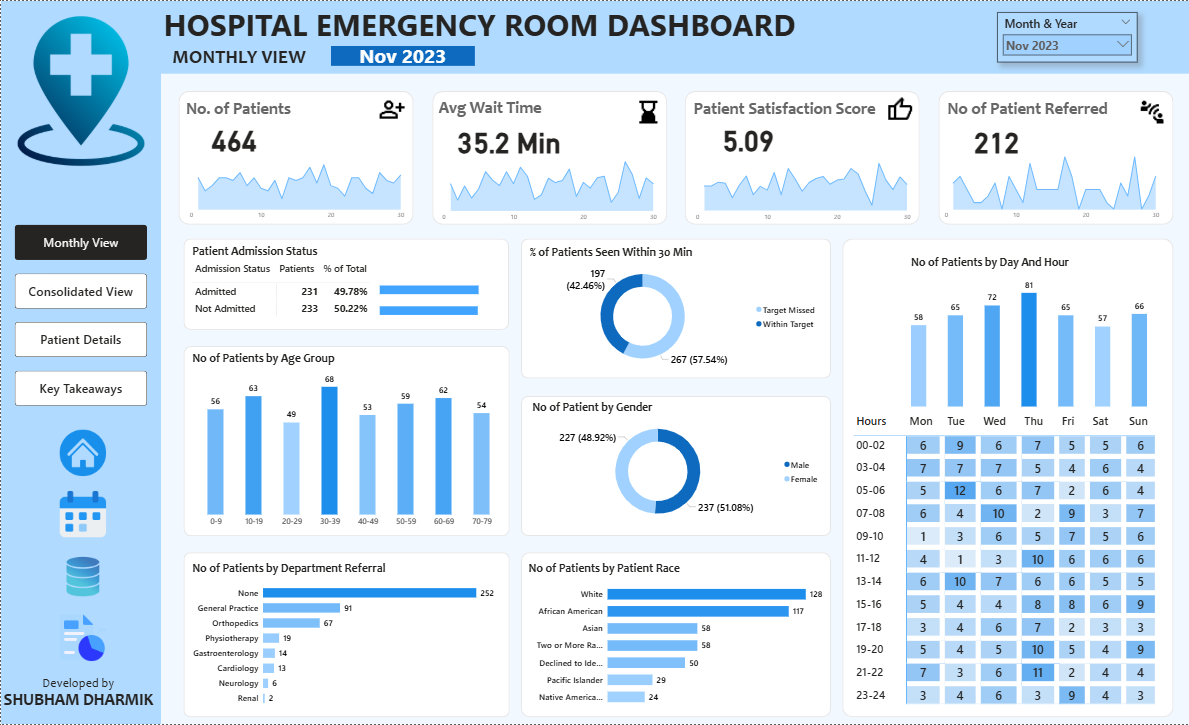

What the dashboard file says about the page in this screenshot:
{"tool":"powerbi","page":{"name":"Monthly View","canvas":[2300,1400],"ordinal":0},"visuals":[{"type":"shape","box":[0,0,309.6,1400.5],"z":0},{"type":"shape","box":[310.7,0,1989.8,140.5],"z":1000},{"type":"textbox","box":[309.6,0,1260.2,104],"z":2000},{"type":"shape","box":[343.5,174.2,455,258.8],"z":3000},{"type":"textbox","box":[326.5,79.8,278.2,60.5],"z":4000},{"type":"card","fields":{"Values":["Hospital ER_Data.No of Patients"]},"box":[377.3,227.4,147.5,72.6],"z":5000},{"type":"textbox","box":[353.1,183.8,224.9,55.6],"z":6000},{"type":"areaChart","fields":{"Category":["Date Table.Date.Variation.Date Hierarchy.Day"],"Y":["Hospital ER_Data.No of Patients"]},"box":[353.1,287.8,435.4,145.1],"z":7000},{"type":"card","fields":{"Values":["Min(Date Table.Month & Year)"]},"box":[638.6,87.1,278.2,38.7],"z":8000},{"type":"shape","box":[833.9,174.2,454.7,258.8],"z":9000},{"type":"card","fields":{"Values":["Hospital ER_Data.Avg Wait Time"]},"box":[865.9,232.2,234.6,72.6],"z":10000},{"type":"textbox","box":[841.7,181.4,224.9,55.6],"z":11000},{"type":"areaChart","fields":{"Category":["Date Table.Date.Variation.Date Hierarchy.Day"],"Y":["Avg(Hospital ER_Data.Patient Waittime)"]},"box":[841.7,290.3,435.4,145.1],"z":12000},{"type":"shape","box":[1324,174.2,454.7,258.8],"z":13000},{"type":"card","fields":{"Values":["Hospital ER_Data.Satisfaction Score"]},"box":[1371.5,227.4,147.5,72.6],"z":14000},{"type":"textbox","box":[1335.2,183.8,365.2,55.6],"z":15000},{"type":"areaChart","fields":{"Category":["Date Table.Date.Variation.Date Hierarchy.Day"],"Y":["Hospital ER_Data.Satisfaction Score"]},"box":[1332.8,290.3,435.4,145.1],"z":16000},{"type":"shape","box":[1814.1,174.2,454.7,258.8],"z":17000},{"type":"card","fields":{"Values":["Hospital ER_Data.No of Patient Referred"]},"box":[1853.8,231.2,147.5,72.6],"z":18000},{"type":"shape","box":[353.1,459.6,630,177],"z":19000},{"type":"textbox","box":[1826.2,183.8,326.5,55.6],"z":20000},{"type":"areaChart","fields":{"Category":["Date Table.Date.Variation.Date Hierarchy.Day"],"Y":["Hospital ER_Data.No of Patient Referred"]},"box":[1815.1,286.9,435.4,145.1],"z":21000},{"type":"slicer","fields":{"Values":["Date Table.Month & Year"]},"box":[1927.8,21.8,270.9,96.8],"z":22000},{"type":"pivotTable","title":"Patient Admission Status","fields":{"Rows":["Hospital ER_Data.Admission Status"],"Values":["Hospital ER_Data.No of Patients1","Hospital ER_Data.No of Patients"]},"box":[365.2,469.2,607.1,154.8],"z":23000},{"type":"barChart","fields":{"Category":["Hospital ER_Data.Admission Status"],"Y":["Hospital ER_Data.No of Patients"]},"box":[728.1,517.6,256.4,118.5],"z":24000},{"type":"shape","box":[353.1,667.6,631.3,368],"z":25000},{"type":"clusteredColumnChart","fields":{"Category":["Hospital ER_Data.Age Group"],"Y":["Hospital ER_Data.No of Patients"]},"box":[365.2,677.3,616.8,350.7],"z":26000},{"type":"shape","box":[353.1,1066.7,631.3,319.3],"z":27000},{"type":"clusteredBarChart","fields":{"Category":["Hospital ER_Data.Department Referral"],"Y":["Hospital ER_Data.No of Patients"]},"box":[365.2,1083.6,597.4,292.7],"z":28000},{"type":"shape","box":[1006.2,459.6,599.9,270.9],"z":29000},{"type":"donutChart","title":"% of Patients Seen Within 30 Min","fields":{"Category":["Hospital ER_Data.Waittime Status"],"Y":["Hospital ER_Data.No of Patients"]},"box":[1018.3,471.7,570.8,249.1],"z":30000},{"type":"shape","box":[1006.2,763.7,599.9,270.9],"z":31000},{"type":"donutChart","title":"No of Patient by Gender","fields":{"Y":["Hospital ER_Data.No of Patients"],"Category":["Hospital ER_Data.Patient Gender"]},"box":[1023.2,771,570.8,249.1],"z":32000},{"type":"shape","box":[1006.2,1066.7,599.9,319.3],"z":33000},{"type":"clusteredBarChart","fields":{"Y":["Hospital ER_Data.No of Patients"],"Category":["Hospital ER_Data.Patient Race"]},"box":[1014.9,1083.6,579.1,292.7],"z":34000},{"type":"shape","box":[1627.9,459.6,641,926.4],"z":35000},{"type":"pivotTable","fields":{"Rows":["Hospital ER_Data.Waittime Interval"],"Columns":["Date Table.Day Name"],"Values":["Hospital ER_Data.No of Patients"]},"box":[1644.8,791,609.5,585.4],"z":36000},{"type":"columnChart","title":"No of Patients by Day And Hour","fields":{"Category":["Date Table.Day Name"],"Y":["Hospital ER_Data.No of Patients"]},"box":[1756.1,491,469.2,299.9],"z":37000},{"type":"image","box":[1707.7,179,62.9,62.9],"z":38000},{"type":"image","box":[725.6,179,62.9,62.9],"z":39000},{"type":"image","box":[2196.3,183.8,62.9,62.9],"z":40000},{"type":"image","box":[1221.5,183.8,62.9,62.9],"z":41000},{"type":"image","box":[4.8,23.7,299.9,299.9],"z":42000},{"type":"pageNavigator","box":[26.6,433,256.4,353.1],"z":42001},{"type":"image","box":[108.8,824.8,99.2,99.2],"z":42002},{"type":"image","box":[108.8,944.1,99.2,99.2],"z":42003},{"type":"image","box":[108.8,1063.5,99.2,99.2],"z":42004},{"type":"image","box":[108.8,1182.8,99.2,99.2],"z":42005},{"type":"textbox","box":[75,1298.9,159.6,48.4],"z":42006},{"type":"textbox","box":[0,1327.9,326.5,58.1],"z":42007}]}

Visuals, with their boxes in screenshot pixels (x1, y1, x2, y2), scaled from the page's 2300x1400 canvas onto the 1189x725 screenshot:
shape: 0 0 160 724
shape: 161 0 1188 73
textbox: 160 0 812 54
shape: 178 90 413 224
textbox: 169 41 313 73
card - Hospital ER_Data.No of Patients: 195 118 271 155
textbox: 183 95 299 124
areaChart - Date Table.Date.Variation.Date Hierarchy.Day x Hospital ER_Data.No of Patients: 183 149 408 224
card - Min(Date Table.Month & Year): 330 45 474 65
shape: 431 90 666 224
card - Hospital ER_Data.Avg Wait Time: 448 120 569 158
textbox: 435 94 551 123
areaChart - Date Table.Date.Variation.Date Hierarchy.Day x Avg(Hospital ER_Data.Patient Waittime): 435 150 660 225
shape: 684 90 920 224
card - Hospital ER_Data.Satisfaction Score: 709 118 785 155
textbox: 690 95 879 124
areaChart - Date Table.Date.Variation.Date Hierarchy.Day x Hospital ER_Data.Satisfaction Score: 689 150 914 225
shape: 938 90 1173 224
card - Hospital ER_Data.No of Patient Referred: 958 120 1035 157
shape: 183 238 508 330
textbox: 944 95 1113 124
areaChart - Date Table.Date.Variation.Date Hierarchy.Day x Hospital ER_Data.No of Patient Referred: 938 149 1163 224
slicer - Date Table.Month & Year: 997 11 1137 61
"Patient Admission Status" pivotTable: 189 243 503 323
barChart - Hospital ER_Data.Admission Status x Hospital ER_Data.No of Patients: 376 268 509 329
shape: 183 346 509 536
clusteredColumnChart - Hospital ER_Data.Age Group x Hospital ER_Data.No of Patients: 189 351 508 532
shape: 183 552 509 718
clusteredBarChart - Hospital ER_Data.Department Referral x Hospital ER_Data.No of Patients: 189 561 498 713
shape: 520 238 830 378
"% of Patients Seen Within 30 Min" donutChart: 526 244 821 373
shape: 520 395 830 536
"No of Patient by Gender" donutChart: 529 399 824 528
shape: 520 552 830 718
clusteredBarChart - Hospital ER_Data.No of Patients x Hospital ER_Data.Patient Race: 525 561 824 713
shape: 842 238 1173 718
pivotTable - Hospital ER_Data.Waittime Interval x Date Table.Day Name: 850 410 1165 713
"No of Patients by Day And Hour" columnChart: 908 254 1150 410
image: 883 93 915 125
image: 375 93 408 125
image: 1135 95 1168 128
image: 631 95 664 128
image: 2 12 158 168
pageNavigator: 14 224 146 407
image: 56 427 108 479
image: 56 489 108 540
image: 56 551 108 602
image: 56 613 108 664
textbox: 39 673 121 698
textbox: 0 688 169 718
